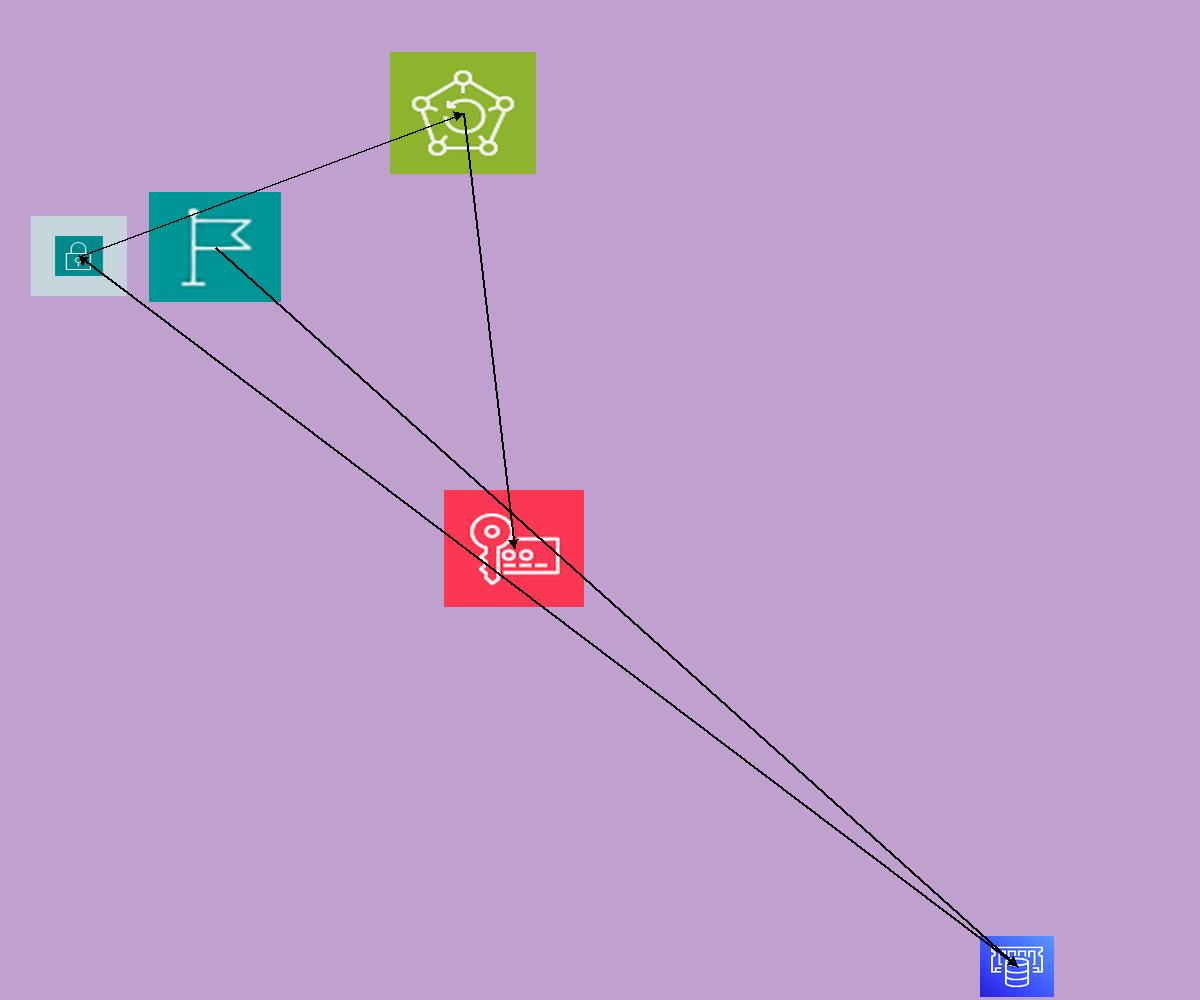AWS-Backup: (390, 52, 536, 174)
AWS-ElastiCache: (980, 936, 1054, 997)
AWS-Key-Management-Service: (444, 490, 584, 607)
AWS-Private-subnet: (31, 216, 127, 296)
AWS-Region: (149, 192, 281, 302)
